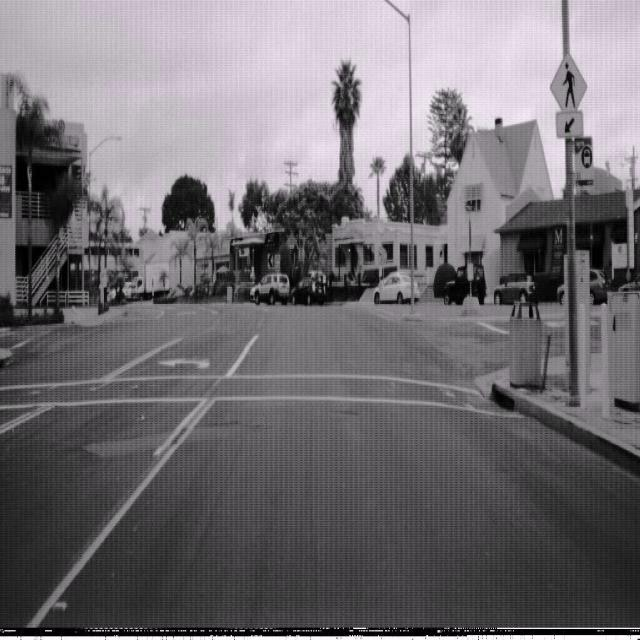pedestrianCrossing: (548, 50, 588, 123)
